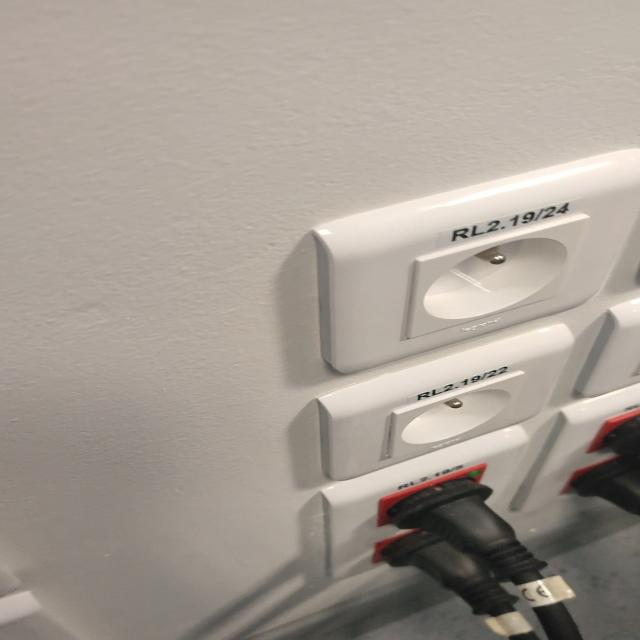house plug: (406, 213, 585, 338), (392, 371, 521, 458)
